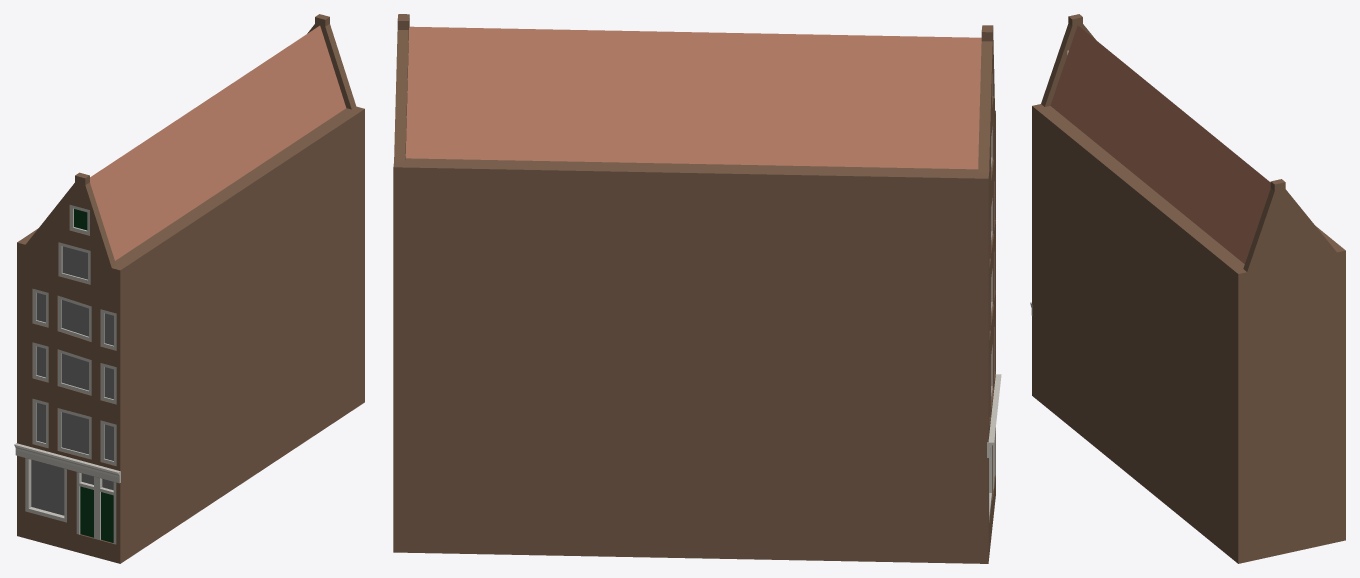
The model's file is Kattenburgerplein_5.fbx.
3 renders of one model, left to right at view 1: azimuth 30°, elevation 25°; view 2: azimuth 150°, elevation 25°; view 3: azimuth 270°, elevation 25°, orthographic. The views are drawn at different scales.
Visible parts, largest first — view 1: Kattenburgerplein_5, Kattenburgerplein_5_roof, Kattenburgerplein_5_window_frames, Kattenburgerplein_5_lower_frame, Cube.005; view 2: Kattenburgerplein_5, Kattenburgerplein_5_roof; view 3: Kattenburgerplein_5, Kattenburgerplein_5_roof.
Boxes of the visible parts, x1,y1,x2,y2 form: Kattenburgerplein_5: (17, 14, 364, 563); Kattenburgerplein_5_roof: (90, 25, 346, 260); Kattenburgerplein_5_window_frames: (32, 205, 116, 465); Kattenburgerplein_5_lower_frame: (25, 458, 116, 562); Cube.005: (14, 443, 120, 483); Kattenburgerplein_5: (393, 14, 995, 563); Kattenburgerplein_5_roof: (405, 26, 981, 169); Kattenburgerplein_5: (1032, 14, 1345, 563); Kattenburgerplein_5_roof: (1050, 25, 1270, 263).
Size of the model in its own units: 1648 by 1475 by 1137.
